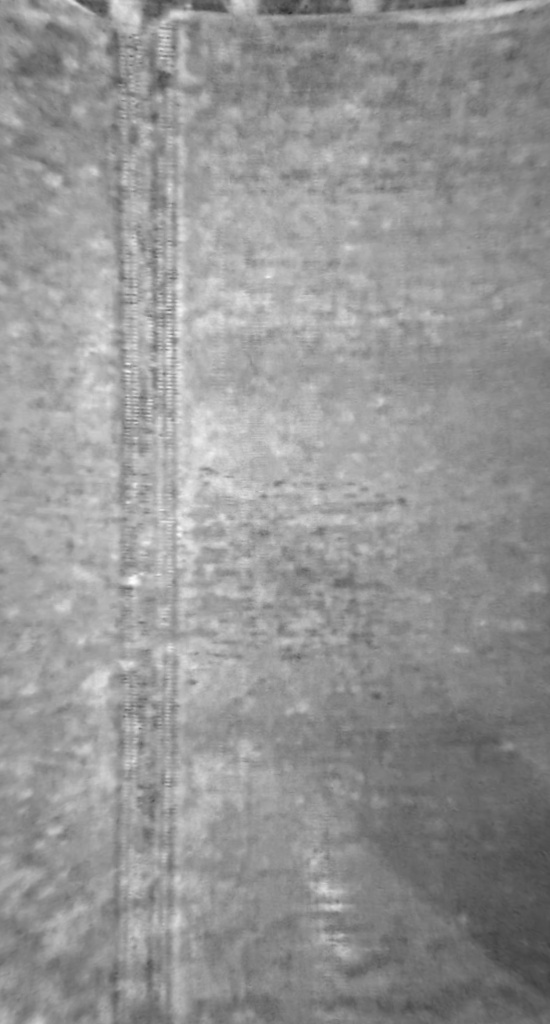splice: (101, 1, 204, 1023)
